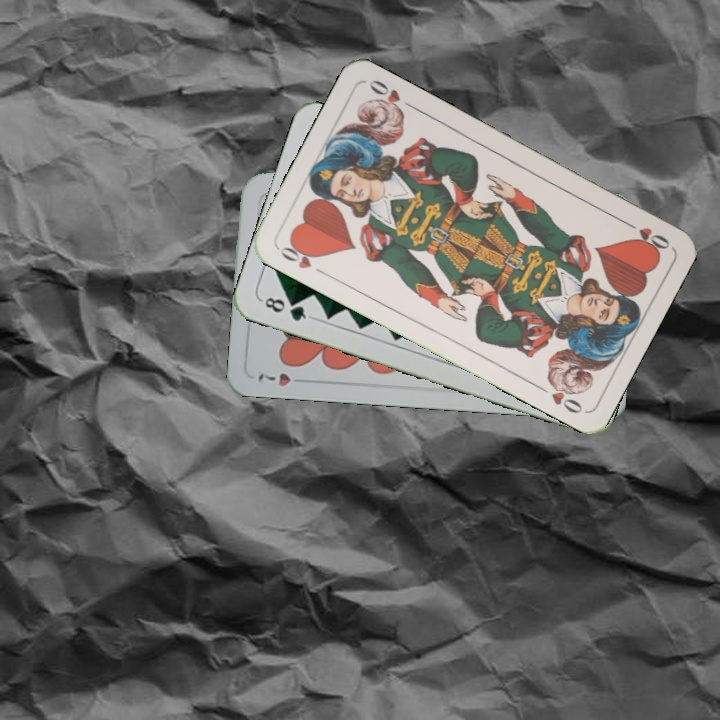G8: (257, 293, 315, 324)
H7: (254, 369, 310, 389)
HO: (275, 237, 329, 278), (618, 216, 673, 253)
